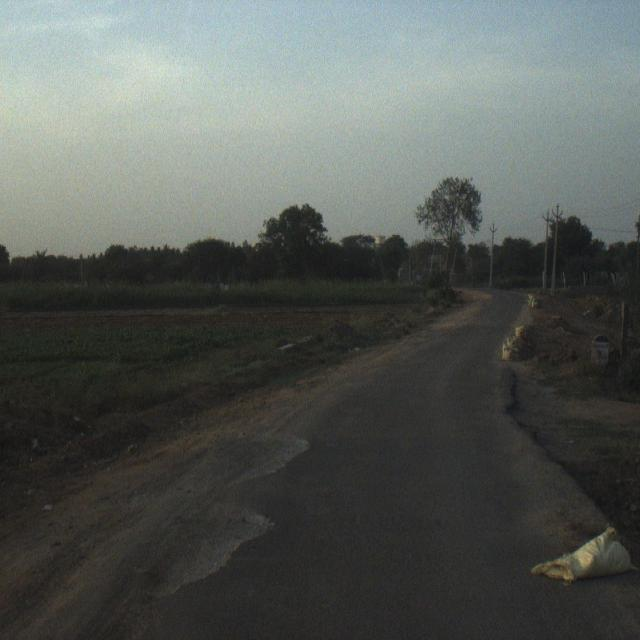Pothole: (1, 398, 306, 640)
